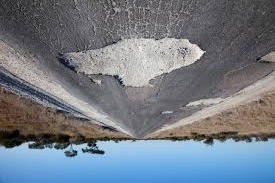pothole: (53, 28, 215, 95), (255, 42, 274, 69), (184, 96, 221, 109), (158, 108, 175, 115)
